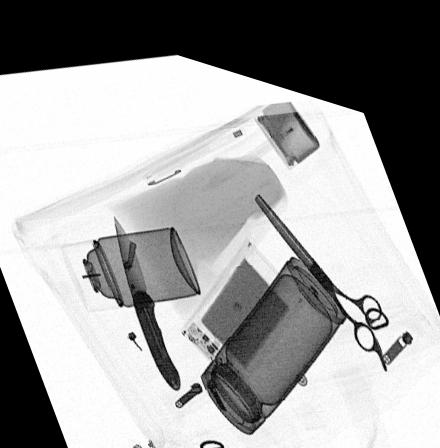Knife: (113, 209, 180, 380)
Powerbank: (178, 221, 304, 377)
Scissors: (251, 172, 388, 348)
Sprayer: (60, 217, 200, 307)
